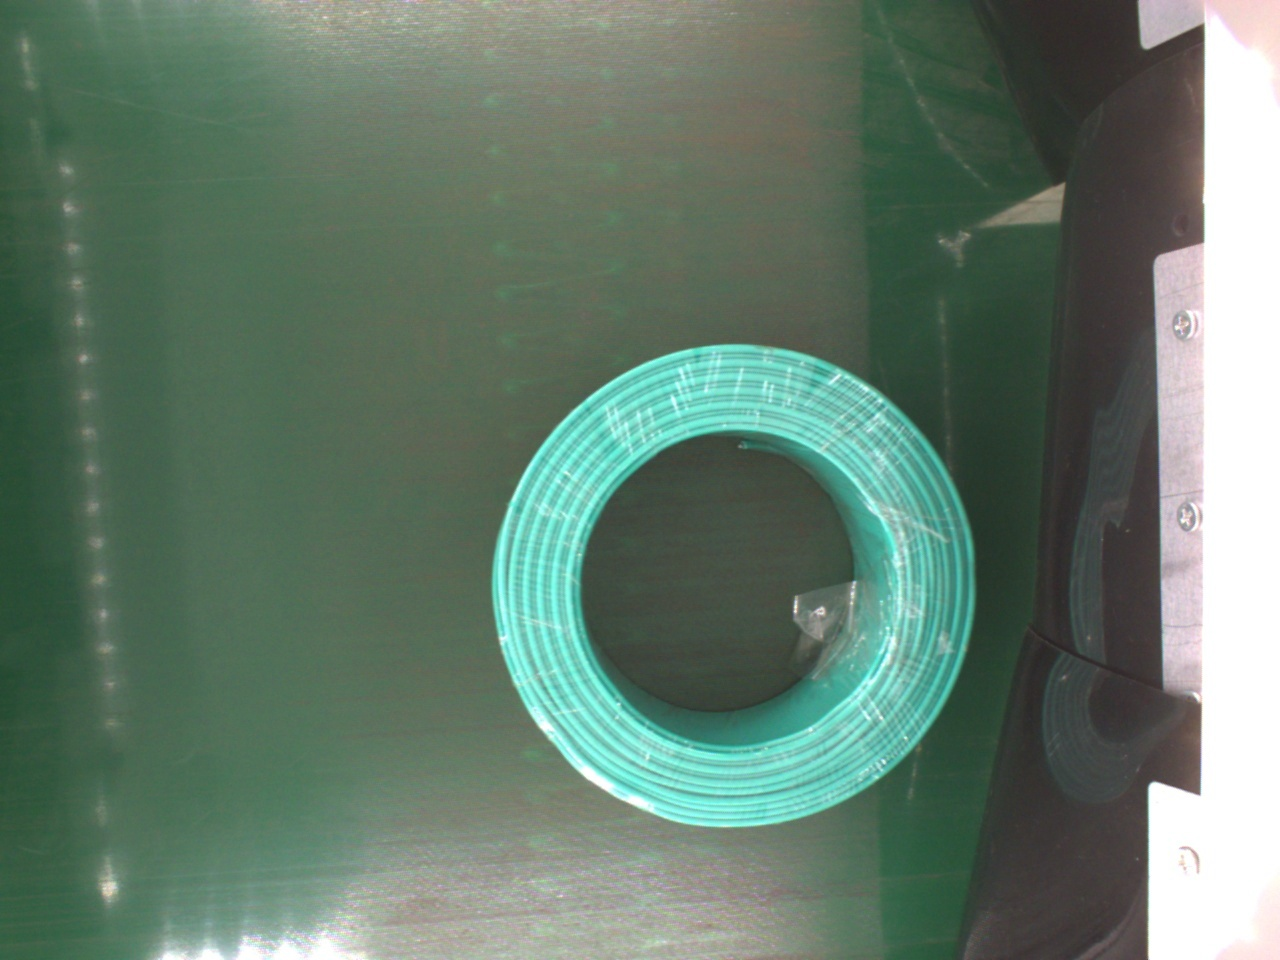green: (485, 341, 980, 832)
